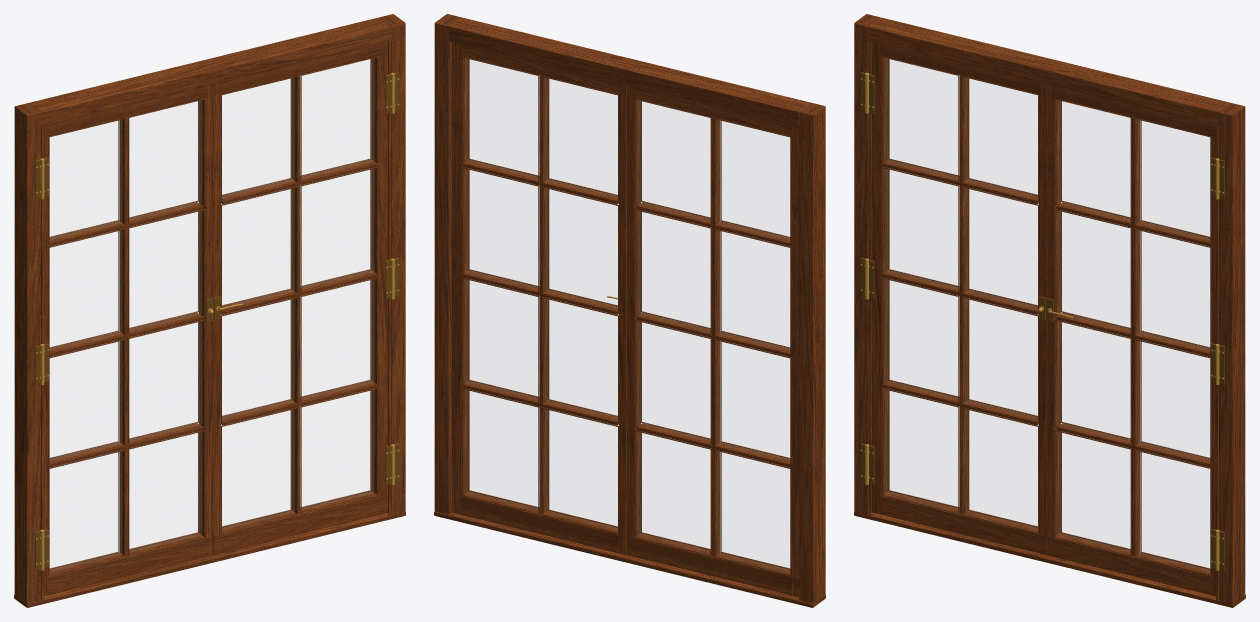
Rendered from asset.glb.
3 views of the same model, side by side, from view 1: azimuth 30°, elevation 25°; view 2: azimuth 150°, elevation 25°; view 3: azimuth 330°, elevation 25° (orthographic).
Visible parts, largest first — view 1: MaterialBatch_French_door_clear_household_glazing, MaterialBatch_French_door_reddish_stained_oak, MaterialBatch_French_door_oak_edge_grain, MaterialBatch_French_door_dark_oak_reveal, MaterialBatch_French_door_warm_aged_brass_hardware, MaterialBatch_French_door_bright_brass_highlights; view 2: MaterialBatch_French_door_clear_household_glazing, MaterialBatch_French_door_dark_oak_reveal, MaterialBatch_French_door_oak_edge_grain, MaterialBatch_French_door_reddish_stained_oak; view 3: MaterialBatch_French_door_clear_household_glazing, MaterialBatch_French_door_reddish_stained_oak, MaterialBatch_French_door_oak_edge_grain, MaterialBatch_French_door_dark_oak_reveal, MaterialBatch_French_door_warm_aged_brass_hardware, MaterialBatch_French_door_bright_brass_highlights.
Boxes of the visible parts, box(x1,y1,x2,y2) form: MaterialBatch_French_door_clear_household_glazing: box(50, 59, 373, 571); MaterialBatch_French_door_reddish_stained_oak: box(25, 22, 405, 604); MaterialBatch_French_door_oak_edge_grain: box(14, 40, 405, 607); MaterialBatch_French_door_dark_oak_reveal: box(14, 14, 404, 606); MaterialBatch_French_door_warm_aged_brass_hardware: box(35, 72, 399, 570); MaterialBatch_French_door_bright_brass_highlights: box(36, 72, 399, 570); MaterialBatch_French_door_clear_household_glazing: box(466, 59, 789, 571); MaterialBatch_French_door_dark_oak_reveal: box(434, 14, 825, 607); MaterialBatch_French_door_oak_edge_grain: box(434, 75, 825, 607); MaterialBatch_French_door_reddish_stained_oak: box(447, 14, 825, 598); MaterialBatch_French_door_clear_household_glazing: box(886, 59, 1209, 571); MaterialBatch_French_door_reddish_stained_oak: box(854, 22, 1234, 606); MaterialBatch_French_door_oak_edge_grain: box(854, 40, 1245, 607); MaterialBatch_French_door_dark_oak_reveal: box(855, 14, 1245, 606); MaterialBatch_French_door_warm_aged_brass_hardware: box(860, 72, 1224, 570); MaterialBatch_French_door_bright_brass_highlights: box(860, 72, 1223, 570).
Bounding box in the file's own units: 66 × 82 × 4.62.
Materials: 6 (6 with a texture image).
